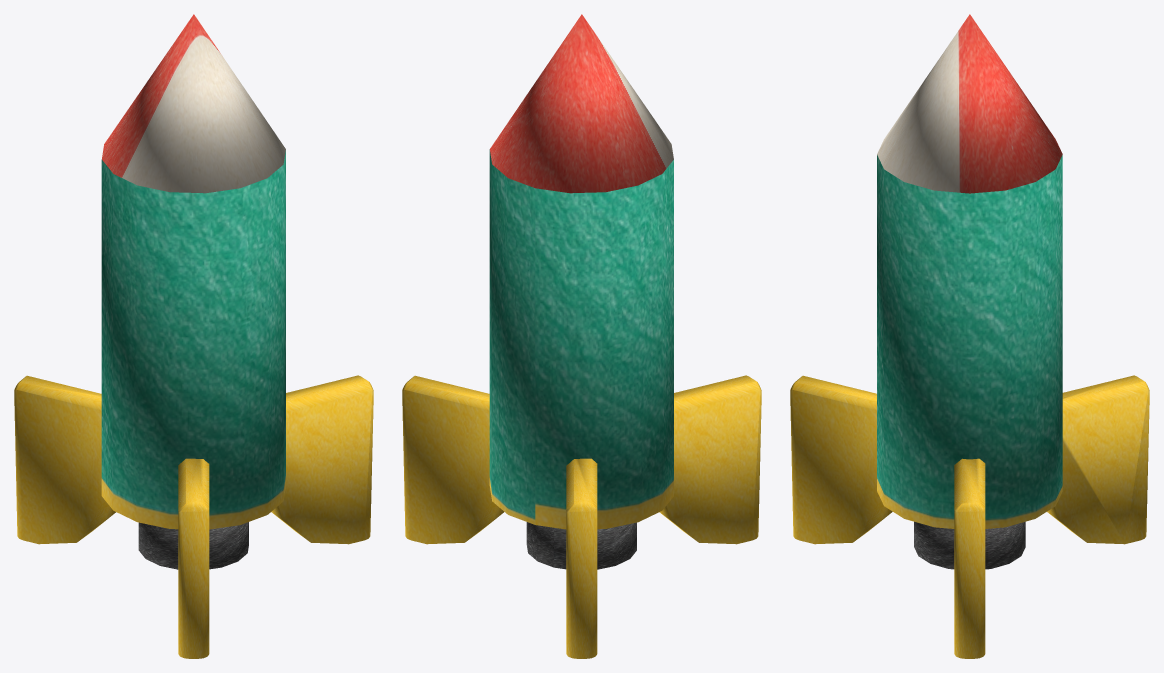
The model's file is rocket2.glb.
3 renders of one model, left to right at view 1: azimuth 30°, elevation 25°; view 2: azimuth 150°, elevation 25°; view 3: azimuth 270°, elevation 25°, orthographic.
Parts seen in each view (by area): view 1: Fin; view 2: Fin; view 3: Fin.
Part boxes in pixels (left/top/right/bottom): Fin: left=14, top=14, right=373, bottom=658; Fin: left=402, top=14, right=761, bottom=658; Fin: left=790, top=14, right=1149, bottom=658.
Size of the model in its own units: 1.01 by 2 by 1.16.
1 material, 1 textured.
